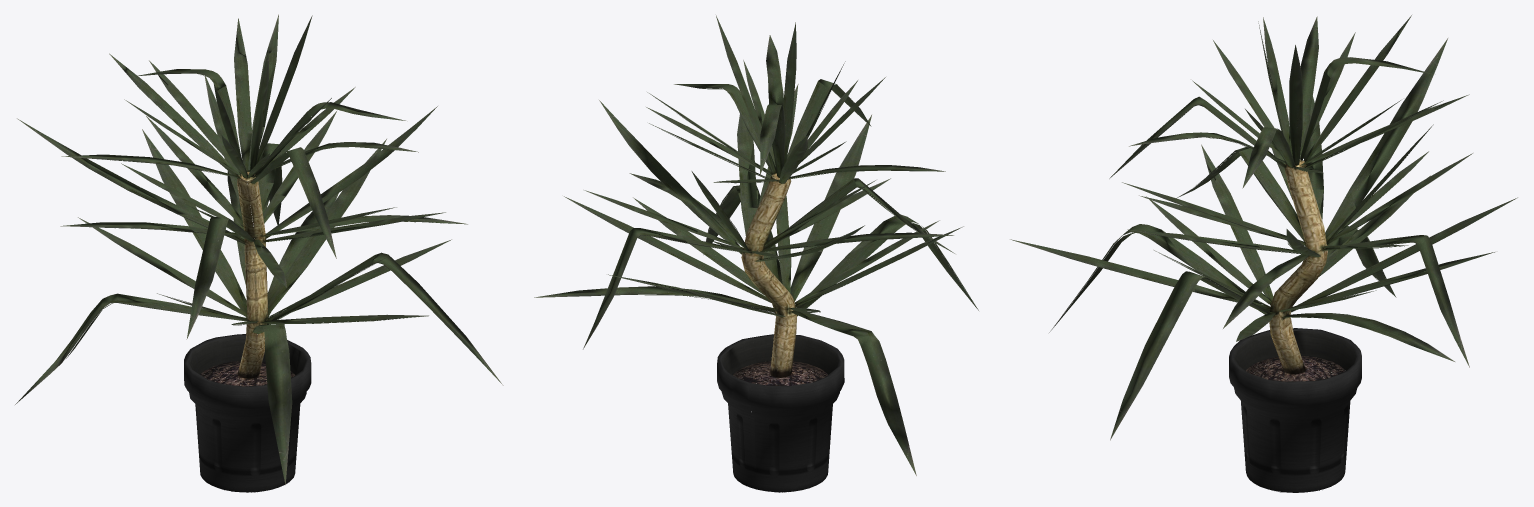
The picture shows the model from 3 angles, left to right: view 1: azimuth 30°, elevation 25°; view 2: azimuth 150°, elevation 25°; view 3: azimuth 270°, elevation 25°; orthographic projection. The views are drawn at different scales.
Parts seen in each view (by area): view 1: 10461_Yucca_Plant_v1.001; view 2: 10461_Yucca_Plant_v1.001; view 3: 10461_Yucca_Plant_v1.001.
Part boxes in pixels (x1=…): 10461_Yucca_Plant_v1.001: x1=15, y1=14, x2=503, y2=492; 10461_Yucca_Plant_v1.001: x1=534, y1=15, x2=978, y2=492; 10461_Yucca_Plant_v1.001: x1=1010, y1=15, x2=1517, y2=492.
Bounding box in the file's own units: 12.5 × 14.23 × 14.28.
1 material, 1 textured.
